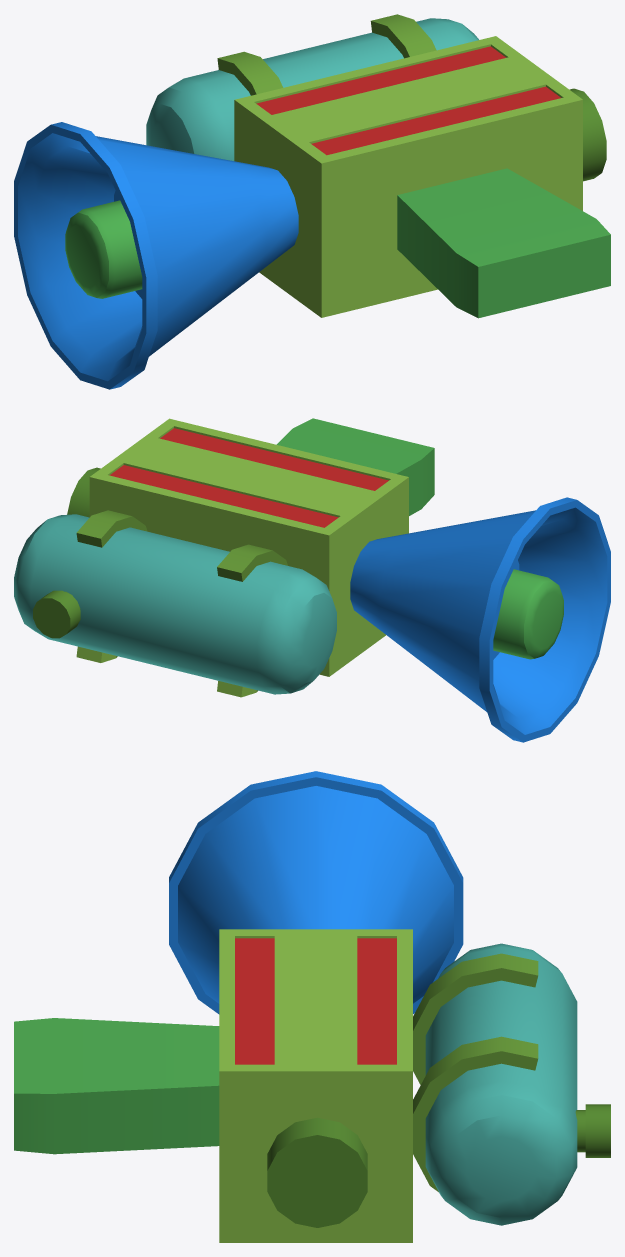
The model's file is Water_Pistol.fbx.
The picture shows the model from 3 angles, top to bottom: view 1: azimuth 30°, elevation 25°; view 2: azimuth 150°, elevation 25°; view 3: azimuth 270°, elevation 25°; orthographic projection. The views are drawn at different scales.
Visible parts, largest first — view 1: Water_Pistol; view 2: Water_Pistol; view 3: Water_Pistol.
Part boxes in pixels (left/top/right/bottom): Water_Pistol: left=14, top=14, right=610, bottom=389; Water_Pistol: left=14, top=418, right=610, bottom=742; Water_Pistol: left=14, top=771, right=610, bottom=1242.
Size of the model in its own units: 11.94 by 5.57 by 11.01.
Materials: 1 (1 with a texture image).
